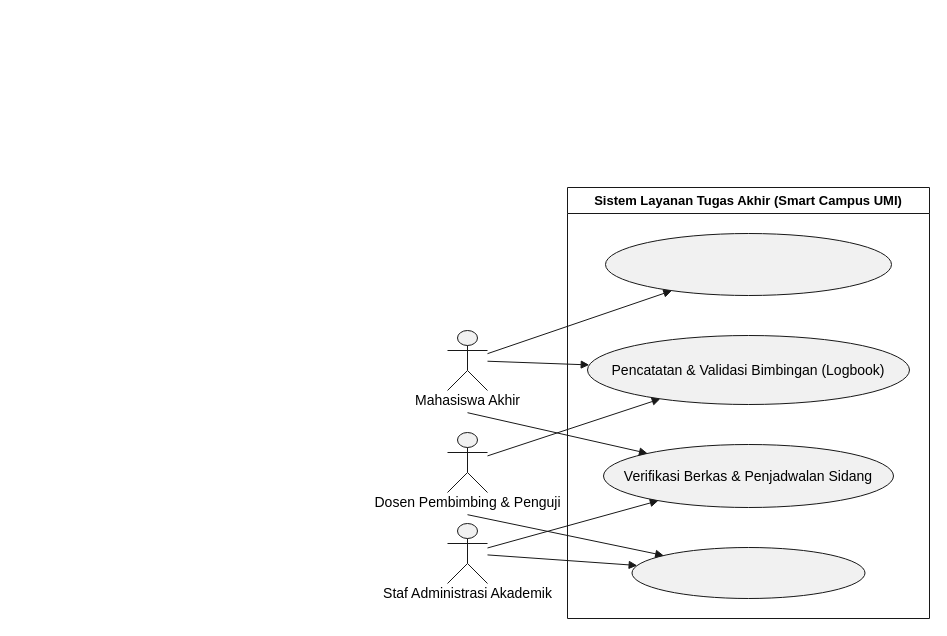
Some shapes in this 947 by 636 pixel diagram are drawn without their labels. Here are the shapes that lost their labels. From the top down, the box of each, then its label:
(604, 232, 892, 296): Pengajuan Judul & Pendaftaran Sidang
(631, 546, 865, 598): Input & Rekapitulasi Nilai Ujian
